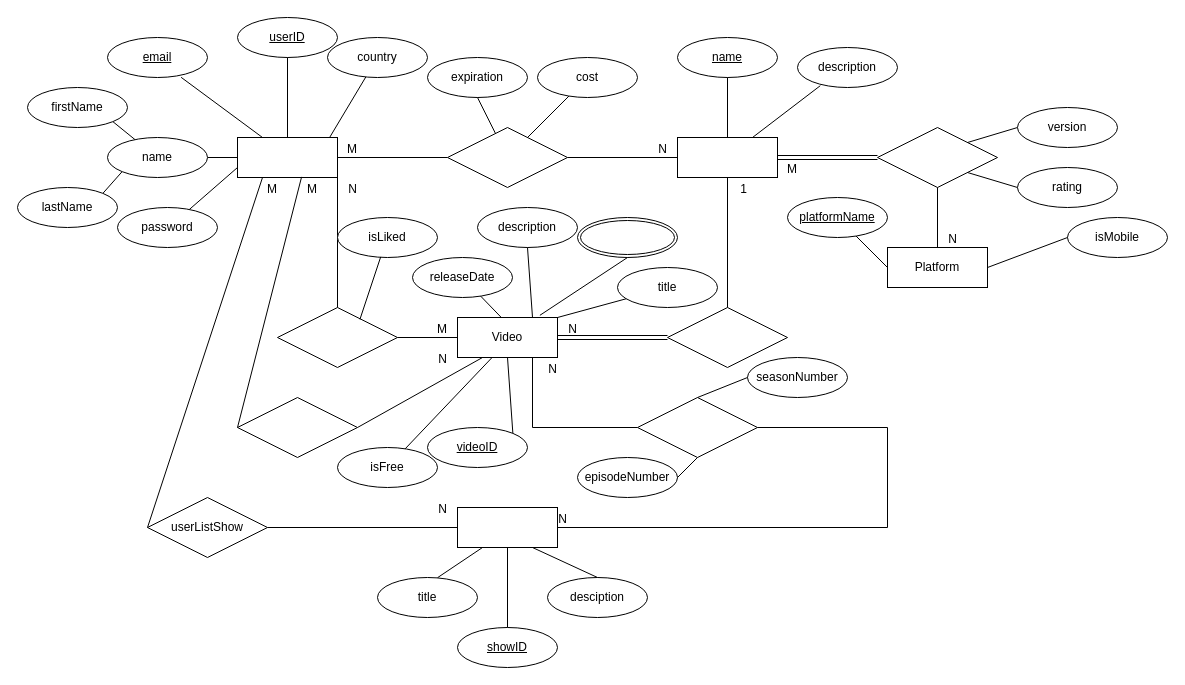
This 1185x685 diagram has some shape labels left out. The shapes that lost their labels are listed below. From the top down, each one's centre as x and y in pixels, then its label:
At pixel 287 157: "User".
At pixel 507 157: "subscribedTo".
At pixel 727 157: "Apps".
At pixel 937 157: "ExistsOn".
At pixel 627 237: "tags".
At pixel 337 337: "WatchedVideo".
At pixel 727 337: "HostedOn".
At pixel 297 427: "userListVideo".
At pixel 697 427: "inSeason".
At pixel 507 527: "Show".
